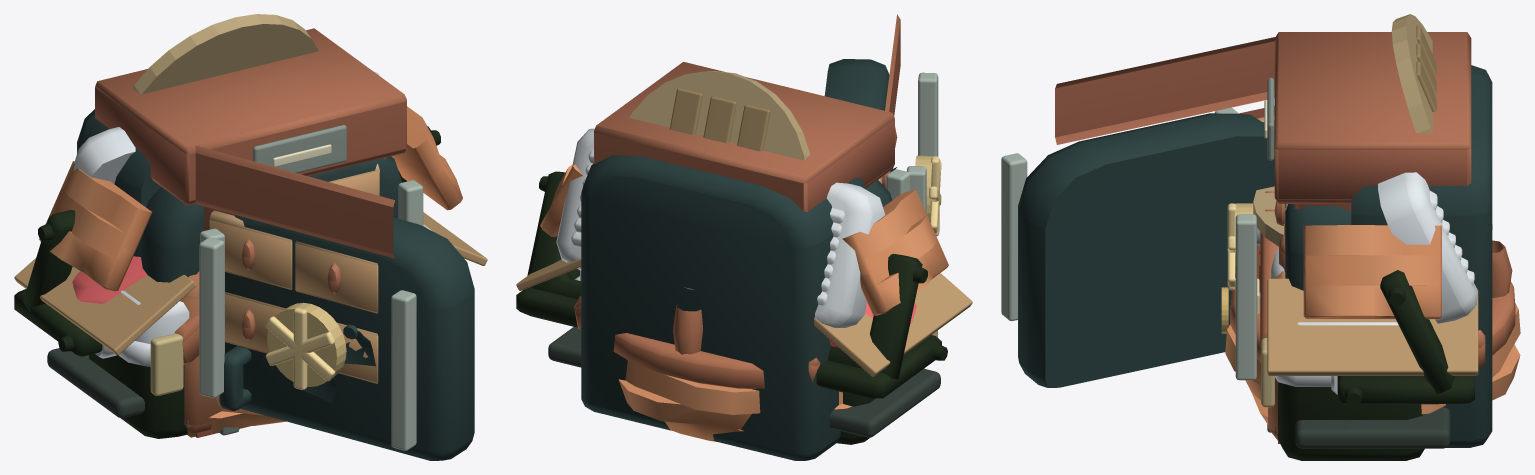
File: container-kit.glb
The picture shows the model from 3 angles, left to right: view 1: azimuth 30°, elevation 25°; view 2: azimuth 150°, elevation 25°; view 3: azimuth 270°, elevation 25°; orthographic projection. The views are drawn at different scales.
Visible parts, largest first — view 1: fridge_door_top.001, cabinet_medium, opened_original_front, picnic_basket_lid_left.001, bucket_wood_lid.001, fridge_door_top, folded_paper_flap, cooler.004, safe_hinge.003, safe_hinge.002, picnic_basket_lid_right.001, foam_liner (+19 smaller); view 2: fridge, cabinet_medium, picnic_basket_round, cooler_lid.005, picnic_basket_lid_left.001, bucket_wood_lid.001, cooler_handle.005, cooler_handle.004, folded_paper_flap, foam_liner, fridge_door_top.001, safe_hinge.003 (+10 smaller); view 3: fridge_door_top.001, cabinet_medium, opened_original_front, folded_paper_flap.001, picnic_basket_lid_right.001, fridge, cooler.004, cooler_lid.005, picnic_basket_round, foam_liner, safe_hinge.001, cooler_handle.004 (+8 smaller).
Part boxes in pixels (box(x1,y1,x2,y2)): fridge_door_top.001: box(219, 215, 474, 460); cabinet_medium: box(95, 28, 406, 205); opened_original_front: box(195, 145, 394, 383); picnic_basket_lid_left.001: box(39, 161, 152, 291); bucket_wood_lid.001: box(132, 14, 318, 94); fridge_door_top: box(141, 156, 402, 282); folded_paper_flap: box(14, 258, 195, 355); cooler.004: box(89, 341, 187, 438); safe_hinge.003: box(391, 290, 416, 450); safe_hinge.002: box(199, 237, 224, 398); picnic_basket_lid_right.001: box(391, 106, 462, 210); foam_liner: box(47, 348, 144, 417); fridge: box(581, 155, 865, 460); cabinet_medium: box(594, 62, 894, 212); picnic_basket_round: box(613, 304, 851, 441); cooler_lid.005: box(556, 128, 885, 327); picnic_basket_lid_left.001: box(842, 189, 948, 315); bucket_wood_lid.001: box(629, 71, 810, 289); cooler_handle.005: box(527, 171, 927, 379); cooler_handle.004: box(516, 269, 947, 398); folded_paper_flap: box(814, 273, 972, 376); foam_liner: box(548, 327, 940, 437); fridge_door_top.001: box(824, 59, 896, 171); safe_hinge.003: box(918, 72, 938, 156); fridge_door_top.001: box(1018, 113, 1274, 387); cabinet_medium: box(1274, 32, 1471, 249); opened_original_front: box(1055, 36, 1278, 144); folded_paper_flap.001: box(1267, 278, 1478, 375); picnic_basket_lid_right.001: box(1303, 225, 1441, 319); fridge: box(1351, 65, 1492, 447); cooler.004: box(1275, 376, 1424, 460); cooler_lid.005: box(1378, 172, 1477, 323); picnic_basket_round: box(1225, 240, 1520, 423); foam_liner: box(1295, 407, 1450, 448); safe_hinge.001: box(1235, 214, 1256, 380); cooler_handle.004: box(1337, 376, 1474, 406).
Size of the model in its own units: 68 by 57.65 by 73.82.
Materials: 73 (38 with a texture image).
